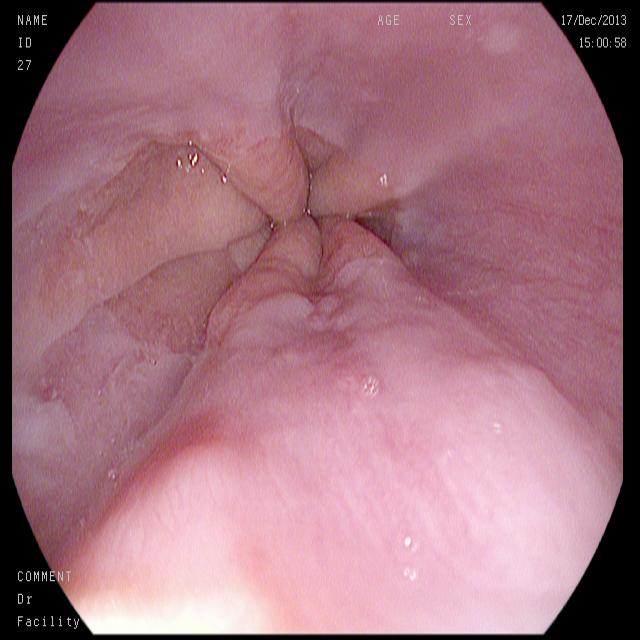Normal-Z-Line: (26, 105, 413, 365)
